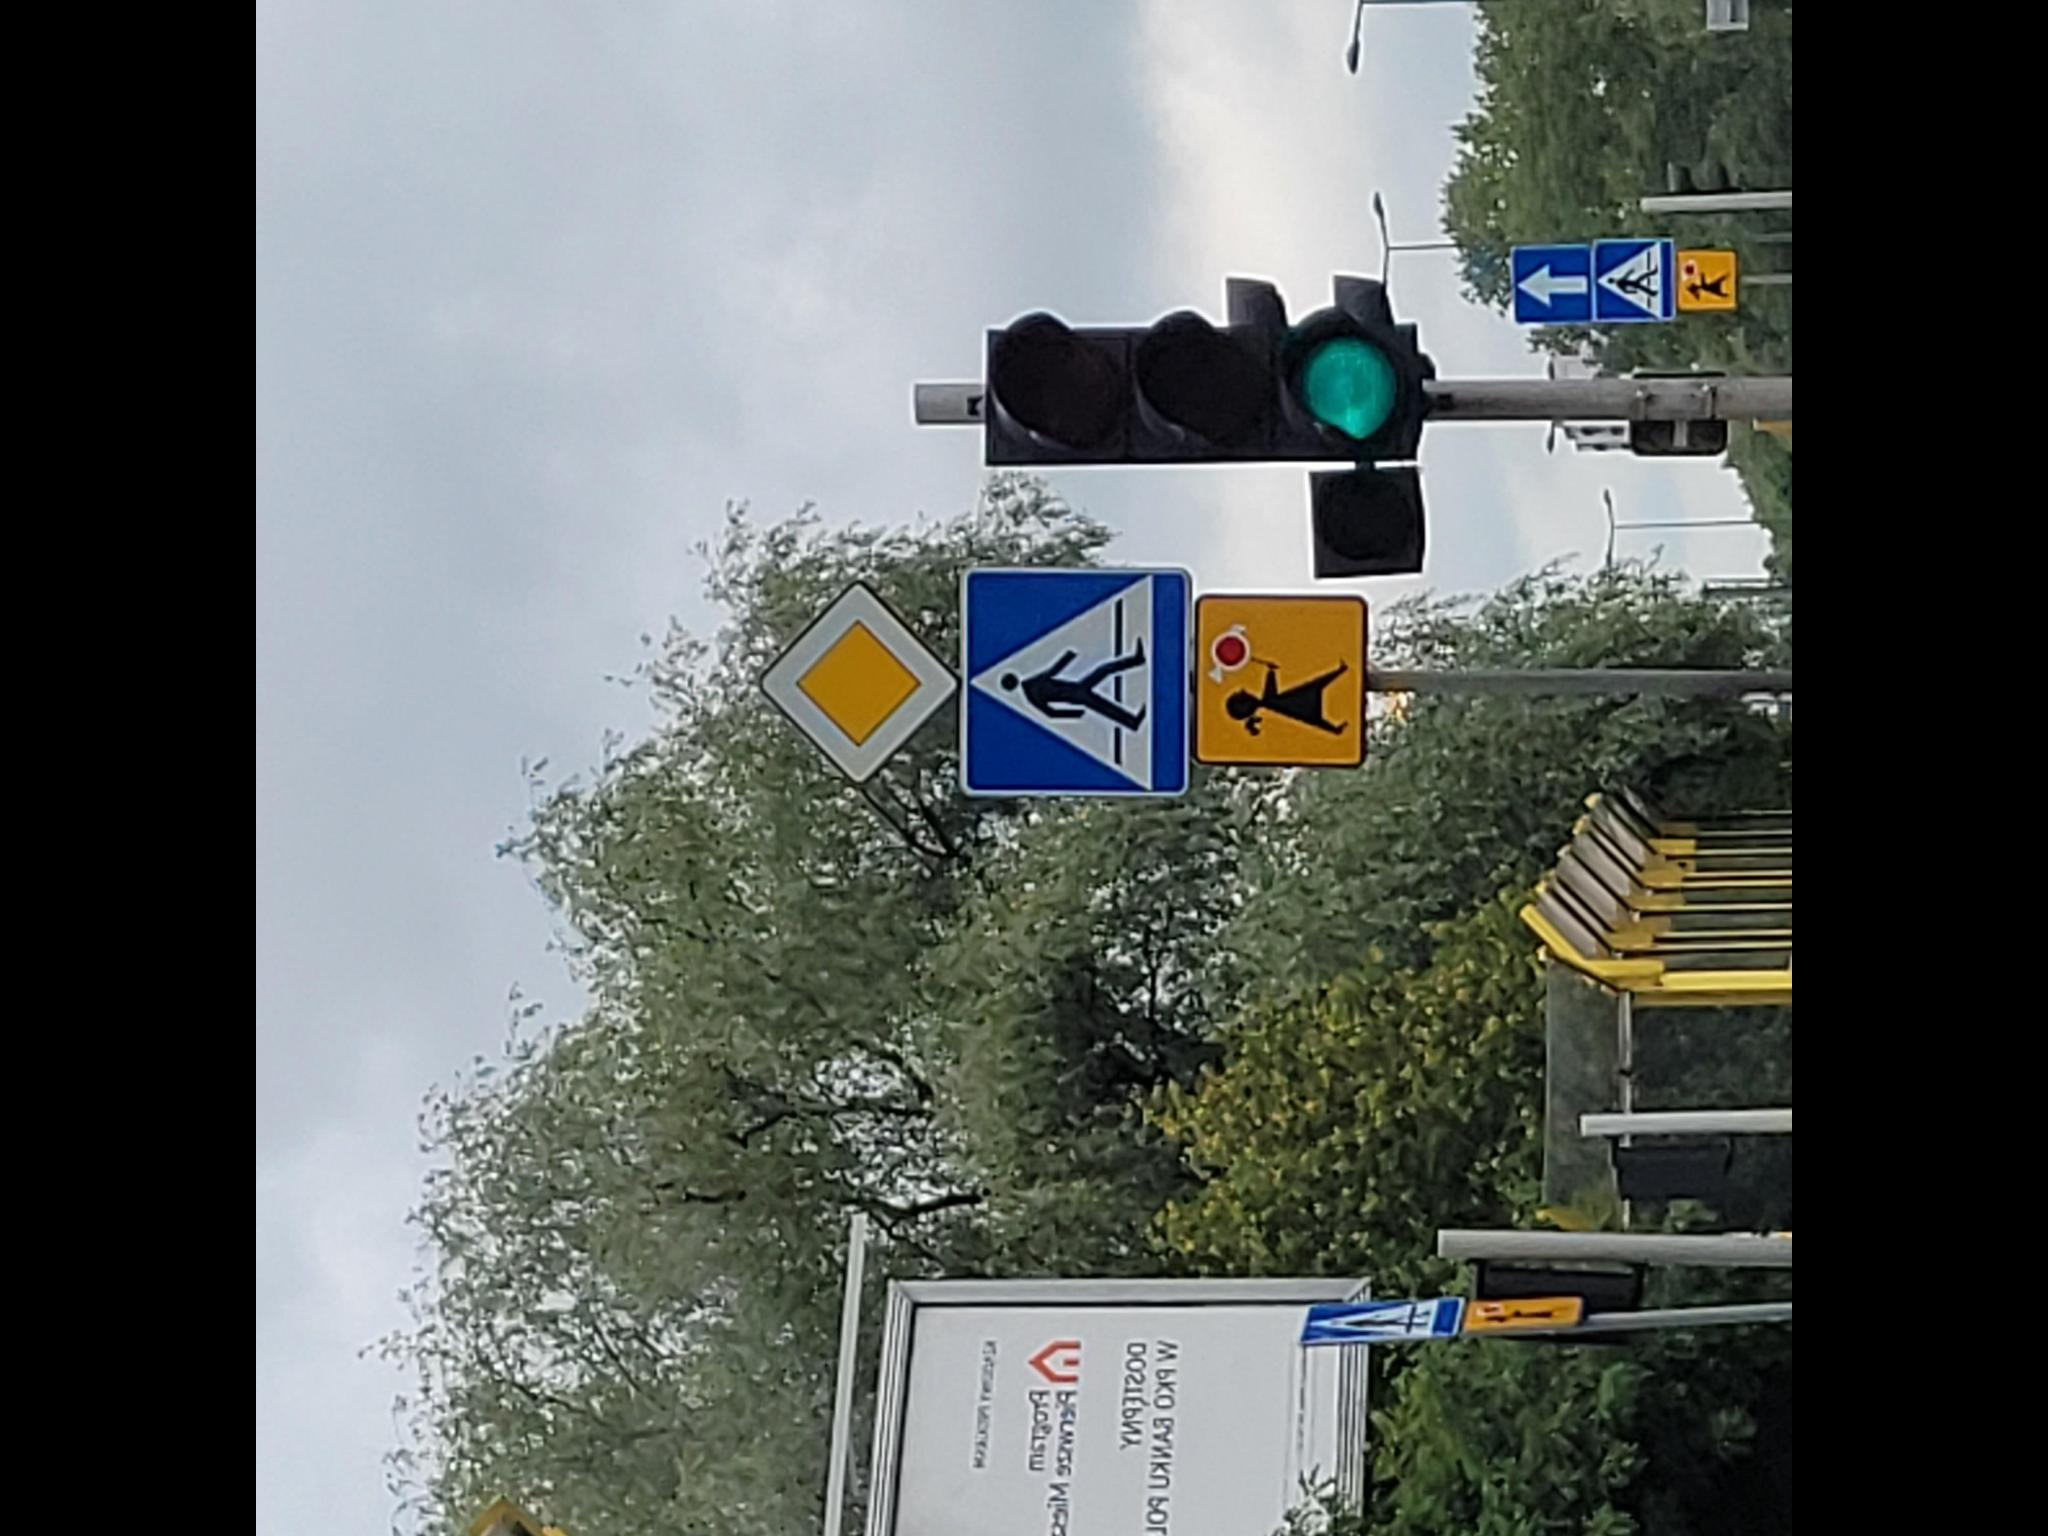information: (963, 571, 1187, 792), (758, 579, 958, 783), (1593, 240, 1672, 319), (1301, 1300, 1461, 1339), (1513, 245, 1593, 321)
other: (1198, 597, 1358, 765), (1466, 1294, 1584, 1326), (1679, 250, 1735, 305)
